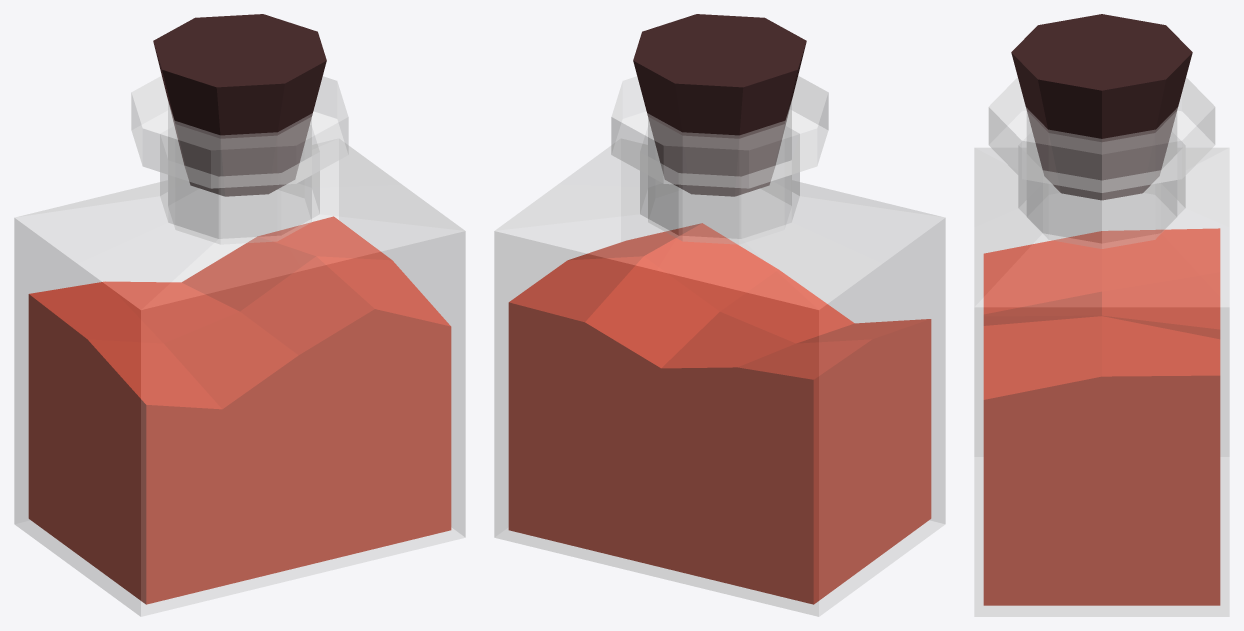
File: PoçaoQuadrada.fbx
3 views of the same model, side by side, from view 1: azimuth 30°, elevation 25°; view 2: azimuth 150°, elevation 25°; view 3: azimuth 270°, elevation 25° (orthographic).
Parts seen in each view (by area): view 1: PoçaoQuadrada, PoçaoQuadradaLiquido; view 2: PoçaoQuadrada, PoçaoQuadradaLiquido; view 3: PoçaoQuadrada, PoçaoQuadradaLiquido.
Part boxes in pixels (x1=…): PoçaoQuadrada: x1=14, y1=14, x2=465, y2=616; PoçaoQuadradaLiquido: x1=28, y1=216, x2=451, y2=604; PoçaoQuadrada: x1=494, y1=14, x2=945, y2=616; PoçaoQuadradaLiquido: x1=508, y1=223, x2=931, y2=604; PoçaoQuadrada: x1=974, y1=14, x2=1229, y2=616; PoçaoQuadradaLiquido: x1=983, y1=228, x2=1220, y2=605.
Size of the model in its own units: 79.62 by 113 by 53.74.
